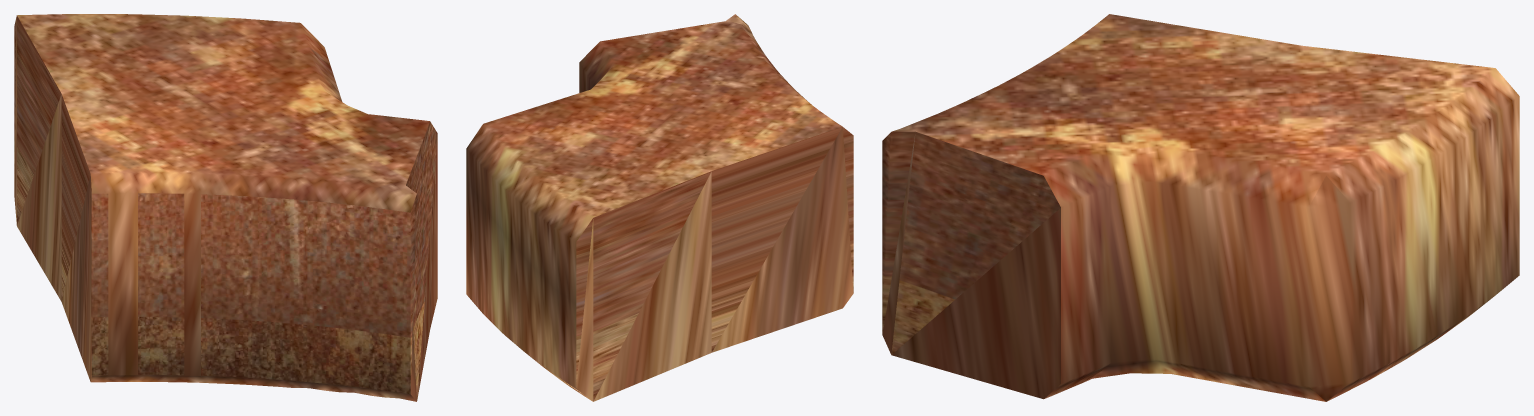
File: 割れた歯車5Ａ 破片5.fbx
The picture shows the model from 3 angles, left to right: view 1: azimuth 30°, elevation 25°; view 2: azimuth 150°, elevation 25°; view 3: azimuth 270°, elevation 25°; orthographic projection. The views are drawn at different scales.
Visible parts, largest first — view 1: obj2; view 2: obj2; view 3: obj2.
Part boxes in pixels (x1,y1,x2,y2): obj2: [14, 14, 437, 401]; obj2: [466, 14, 853, 401]; obj2: [882, 14, 1519, 401].
Bounding box in the file's own units: 36.3 × 22.02 × 56.13.
1 material, 1 textured.
